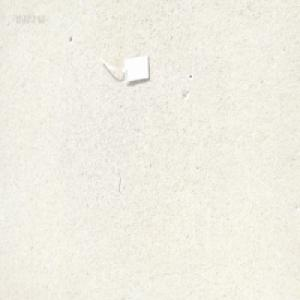LuggageTag: (99, 52, 152, 85)
